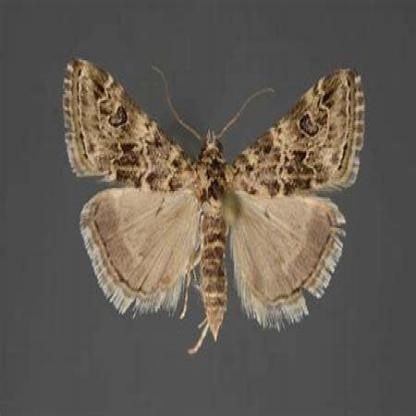Hellula undalis: (62, 56, 370, 361)
